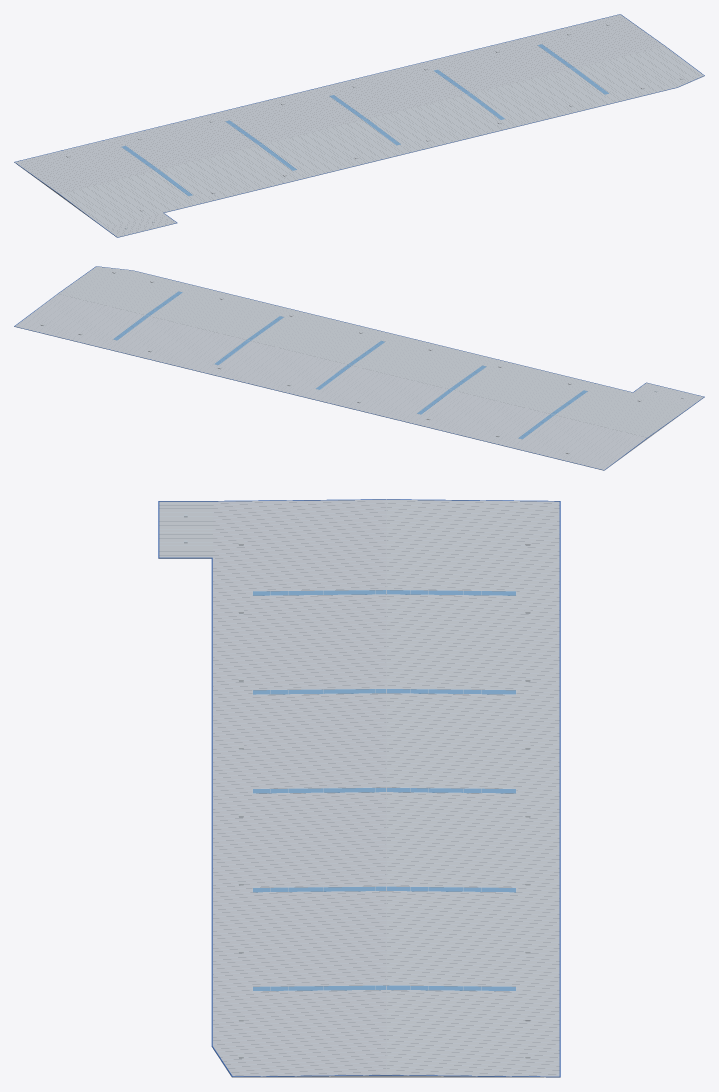
The model's file is SM_GHS_MainWarehouseRoof.fbx.
3 views of the same model, one above another, from view 1: azimuth 30°, elevation 25°; view 2: azimuth 150°, elevation 25°; view 3: azimuth 270°, elevation 25° (orthographic). The views are drawn at different scales.
Parts seen in each view (by area): view 1: SM_GHS_MainWarehouseRoof; view 2: SM_GHS_MainWarehouseRoof; view 3: SM_GHS_MainWarehouseRoof.
Boxes of the visible parts, x1=… form: SM_GHS_MainWarehouseRoof: x1=14, y1=14, x2=704, y2=237; SM_GHS_MainWarehouseRoof: x1=14, y1=266, x2=704, y2=470; SM_GHS_MainWarehouseRoof: x1=158, y1=499, x2=560, y2=1077.
Bounding box in the file's own units: 46623 × 13766 × 89.5.
